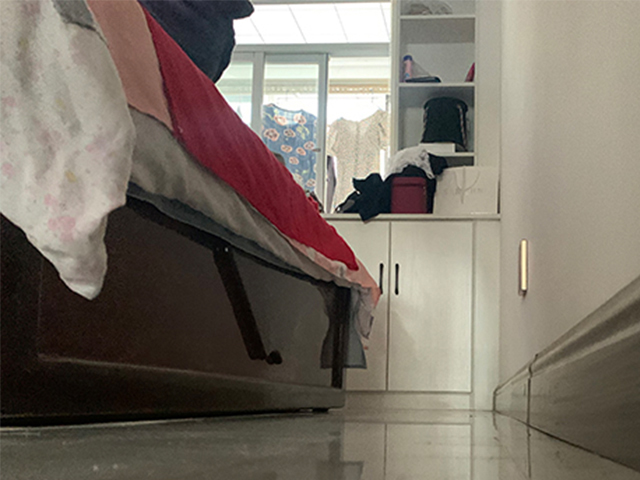bed: (1, 1, 382, 421)
cabinet: (321, 211, 498, 413)
